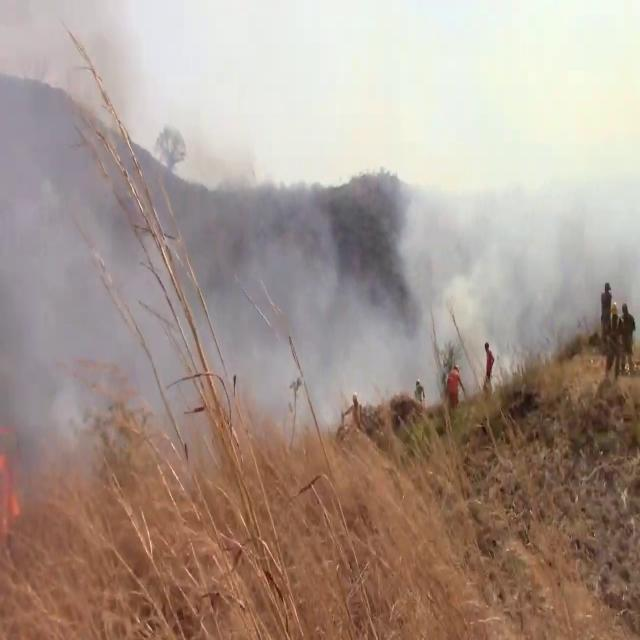Smoke: (392, 6, 640, 386), (0, 2, 162, 482), (187, 163, 414, 421)
